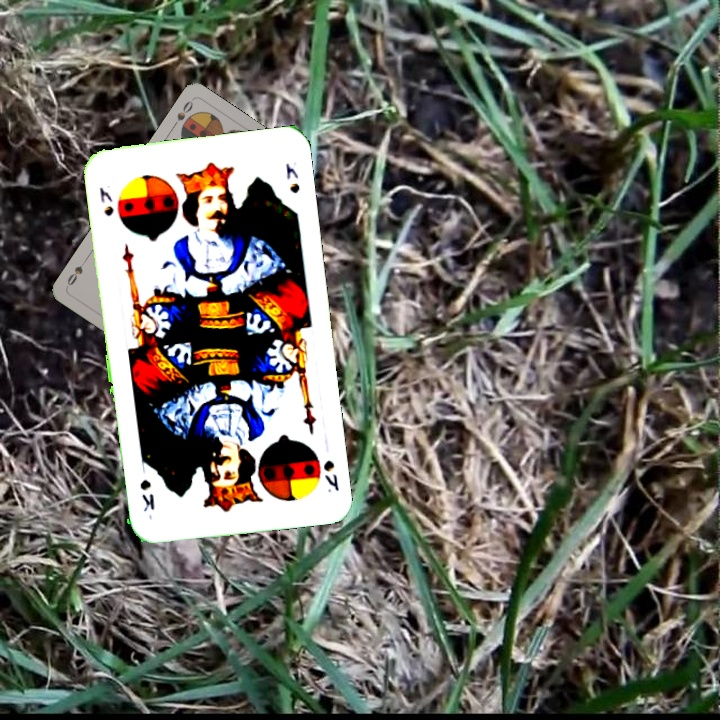SK: (319, 456, 342, 496), (95, 183, 116, 219)
SO: (168, 97, 196, 132)
